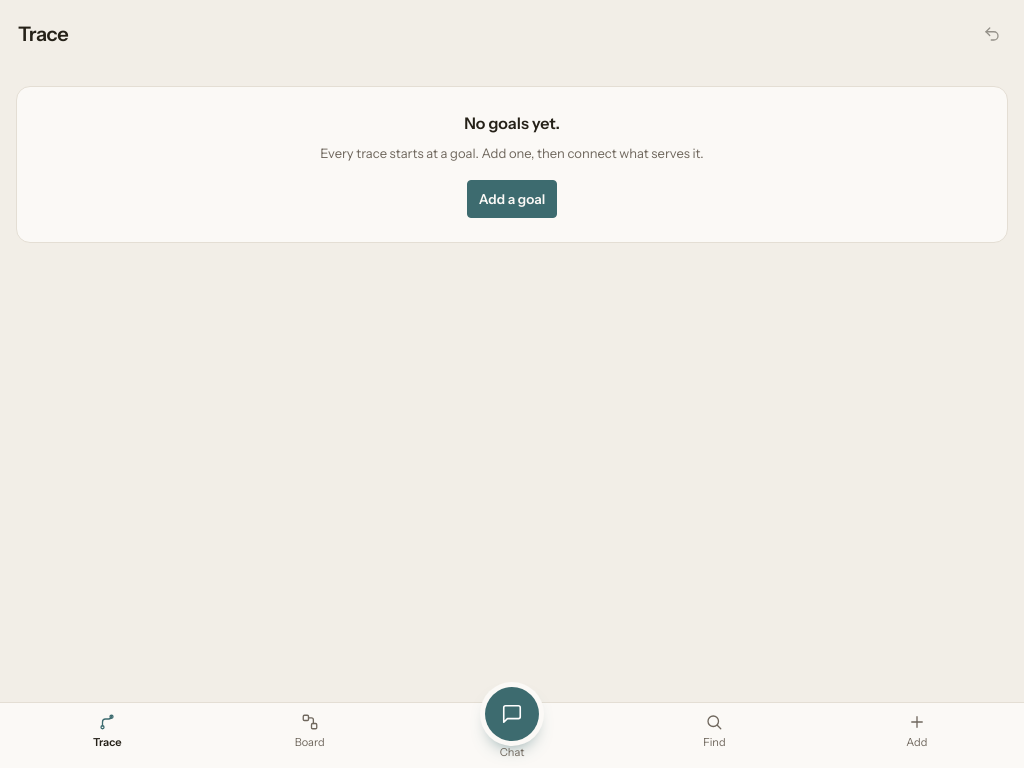
it: the strip › says so when there is nothing on the board
The image size is (1024, 768).
Click the button "Chat".
click(512, 736)  # box [411,711,613,760]
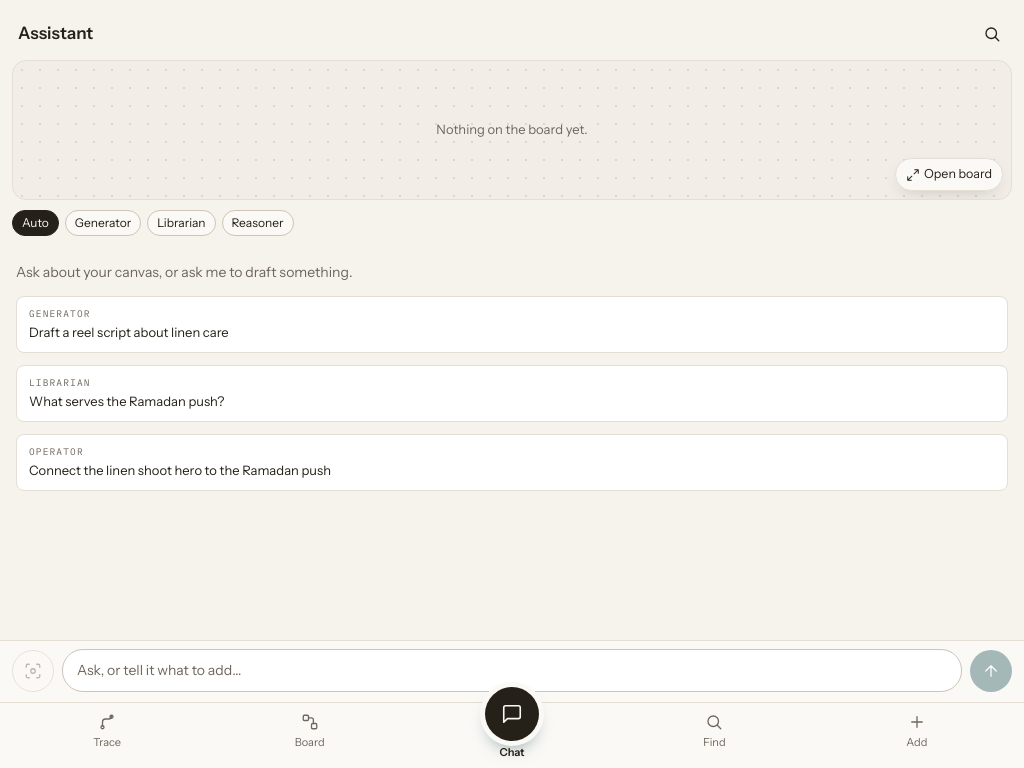
Expected: the text "Nothing on the board yet." is shown, [436,121,588,137]
